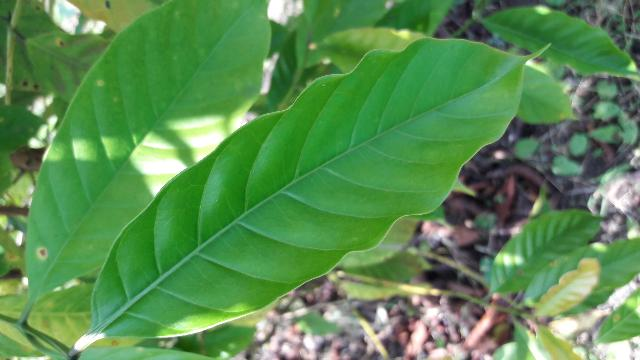healthy: (86, 38, 544, 336)
